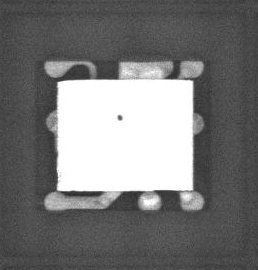DIE_INK: (110, 118, 118, 129)
